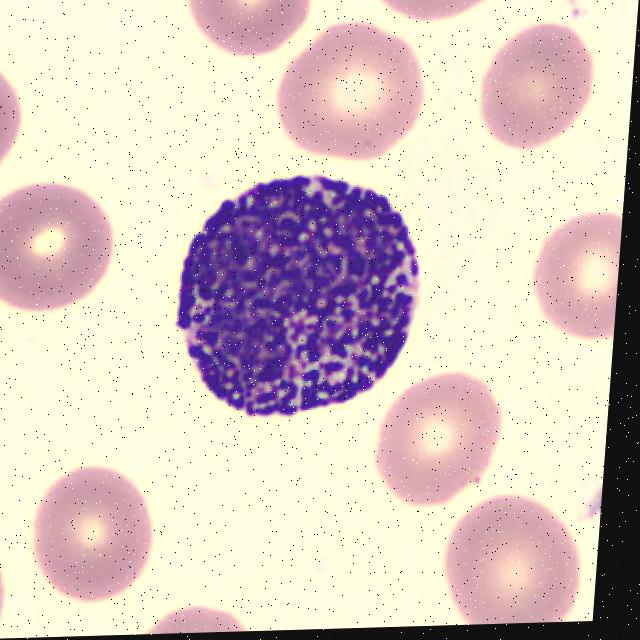basophil: (163, 184, 435, 422)
rbc: (266, 35, 427, 164), (441, 491, 586, 626), (368, 363, 503, 504), (25, 463, 161, 599), (0, 182, 132, 319), (478, 16, 594, 155), (528, 198, 624, 338), (166, 0, 318, 66), (0, 64, 37, 188), (141, 600, 264, 634), (369, 0, 518, 24), (0, 546, 10, 640)
